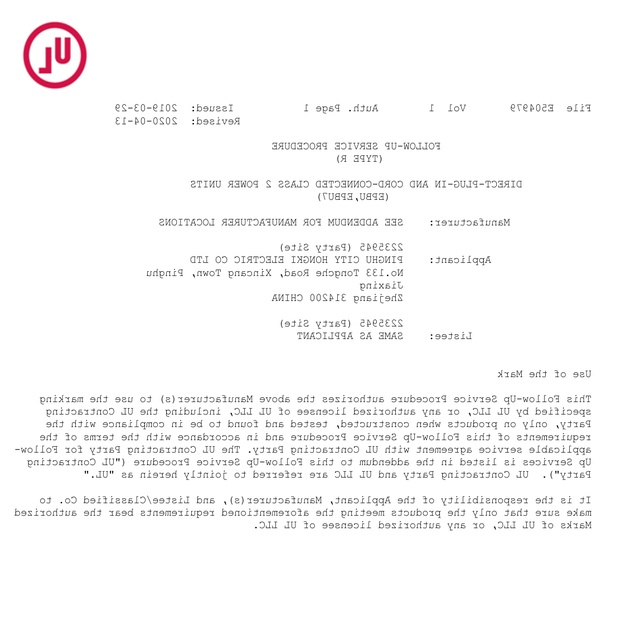ul: (22, 21, 89, 88)
